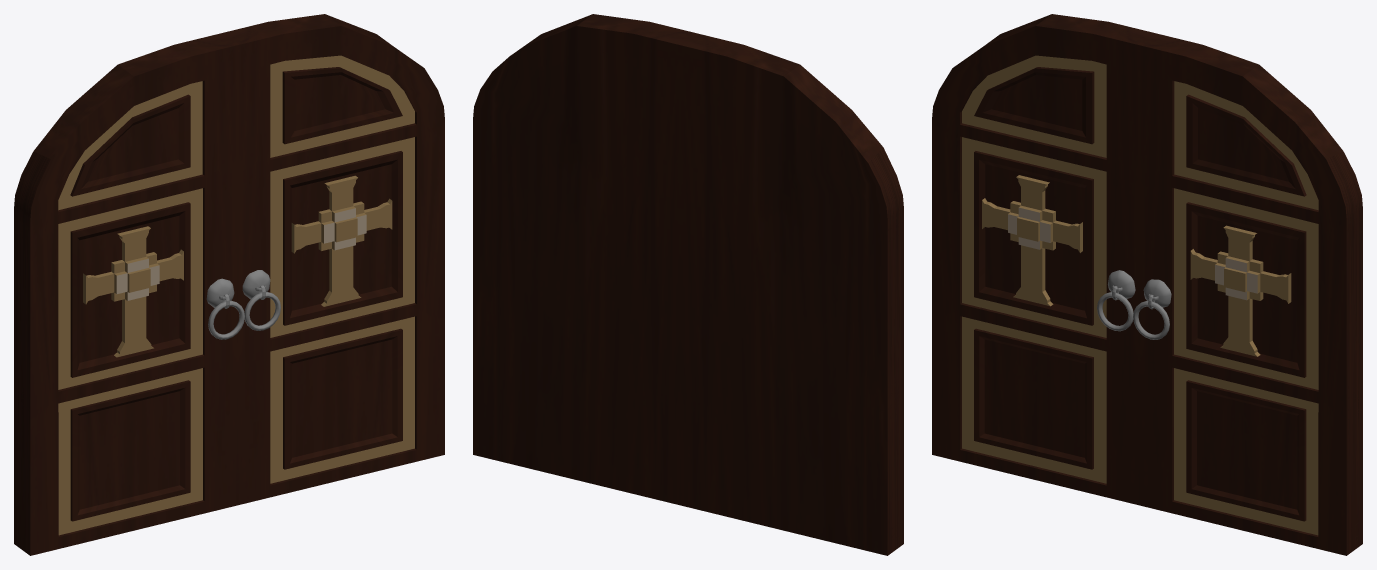
File: church_door.fbx
3 views of the same model, side by side, from view 1: azimuth 30°, elevation 25°; view 2: azimuth 150°, elevation 25°; view 3: azimuth 330°, elevation 25° (orthographic).
Visible parts, largest first — view 1: door, door1, cross1, cross, pTorus5, pTorus1, pSphere1, pSphere2; view 2: door, door1; view 3: door1, door, cross1, cross, pTorus5, pTorus1, pSphere2, pSphere1.
Boxes of the visible parts, x1=… form: door: x1=14, y1=33, x2=237, y2=555; door1: x1=222, y1=14, x2=444, y2=505; cross1: x1=291, y1=175, x2=392, y2=306; cross: x1=83, y1=226, x2=183, y2=357; pTorus5: x1=244, y1=292, x2=280, y2=330; pTorus1: x1=208, y1=300, x2=244, y2=339; pSphere1: x1=206, y1=278, x2=234, y2=307; pSphere2: x1=242, y1=270, x2=270, y2=299; door: x1=680, y1=33, x2=903, y2=555; door1: x1=473, y1=14, x2=696, y2=505; door1: x1=1139, y1=33, x2=1362, y2=555; door: x1=932, y1=14, x2=1155, y2=505; cross1: x1=1190, y1=225, x2=1291, y2=356; cross: x1=982, y1=175, x2=1082, y2=306; pTorus5: x1=1133, y1=301, x2=1169, y2=339; pTorus1: x1=1097, y1=292, x2=1133, y2=331; pSphere2: x1=1143, y1=279, x2=1171, y2=307; pSphere1: x1=1108, y1=270, x2=1135, y2=298.
Bounding box in the file's own units: 6.85 × 7.27 × 0.7041.
